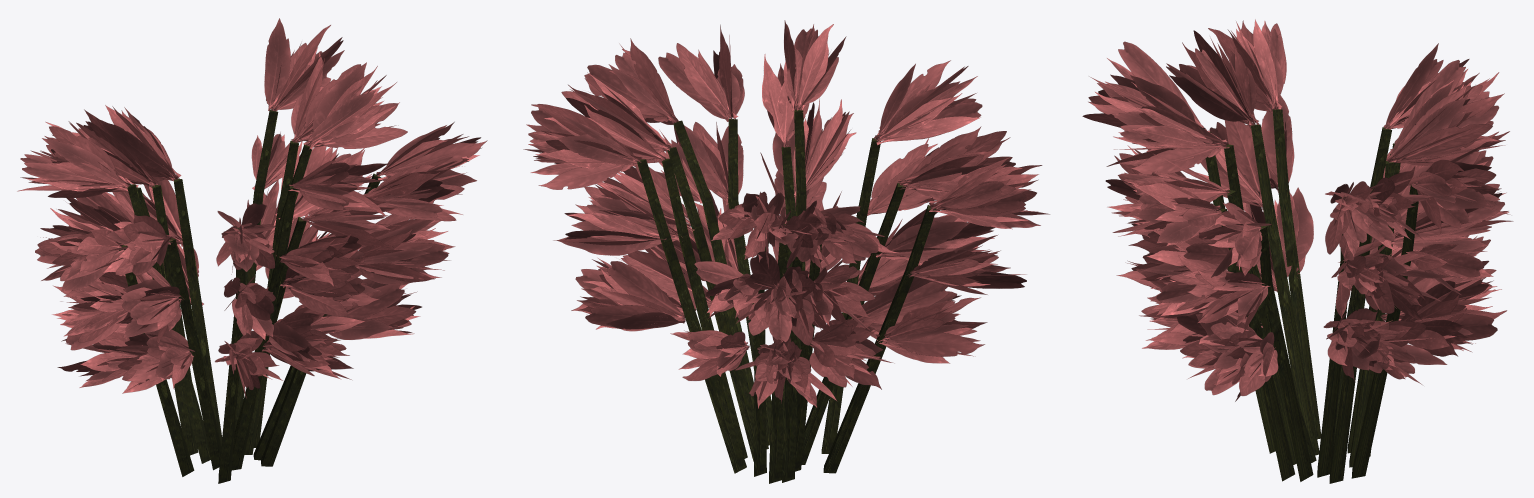
File: understory_ginger_v02_LOD1.glb
3 renders of one model, left to right at view 1: azimuth 30°, elevation 25°; view 2: azimuth 150°, elevation 25°; view 3: azimuth 270°, elevation 25°, orthographic. The views are drawn at different scales.
Parts seen in each view (by area): view 1: understory_ginger_v02_LOD1; view 2: understory_ginger_v02_LOD1; view 3: understory_ginger_v02_LOD1.
Boxes of the visible parts, bbox=[...] form: understory_ginger_v02_LOD1: bbox=[17, 18, 487, 483]; understory_ginger_v02_LOD1: bbox=[523, 20, 1049, 483]; understory_ginger_v02_LOD1: bbox=[1082, 19, 1513, 483].
Size of the model in its own units: 1.56 by 1.22 by 1.21.
2 materials, 2 textured.
